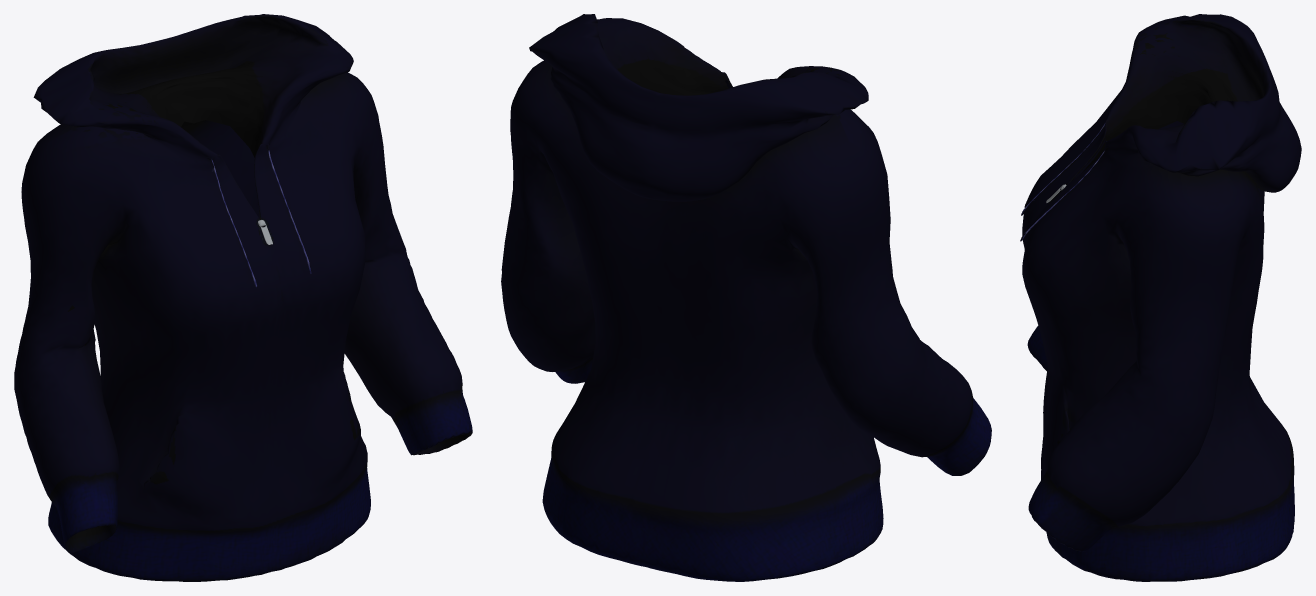
3 views of the same model, side by side, from view 1: azimuth 30°, elevation 25°; view 2: azimuth 150°, elevation 25°; view 3: azimuth 270°, elevation 25° (orthographic). The views are drawn at different scales.
Parts seen in each view (by area): view 1: fabric; view 2: fabric; view 3: fabric.
Boxes of the visible parts, x1,y1,x2,y2 form: fabric: [14, 14, 472, 581]; fabric: [501, 14, 991, 581]; fabric: [1020, 14, 1301, 581].
Size of the model in its own units: 0.5704 by 0.6252 by 0.3434.
Materials: 2 (1 with a texture image).
